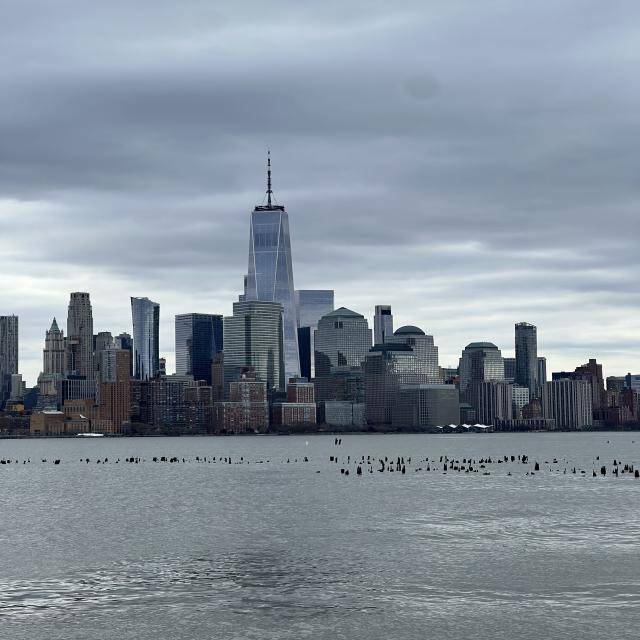WTC: (242, 146, 297, 304)
